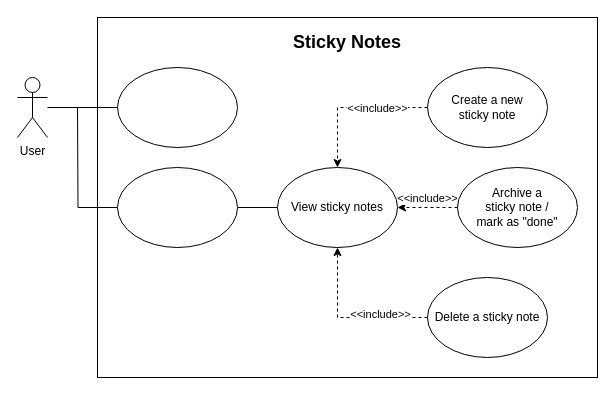
This 615x395 diagram has some shape labels left out. The shapes that lost their labels are listed below. From the top down, each one's centre as x and y in pixels, then its label:
At pixel 177 107: "Register".
At pixel 177 207: "Login".
